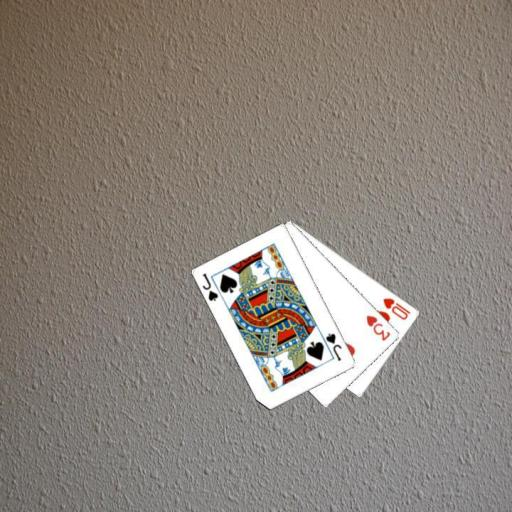10H: (380, 295, 412, 322)
3H: (363, 312, 392, 343)
JS: (323, 330, 343, 363), (200, 270, 220, 303)
